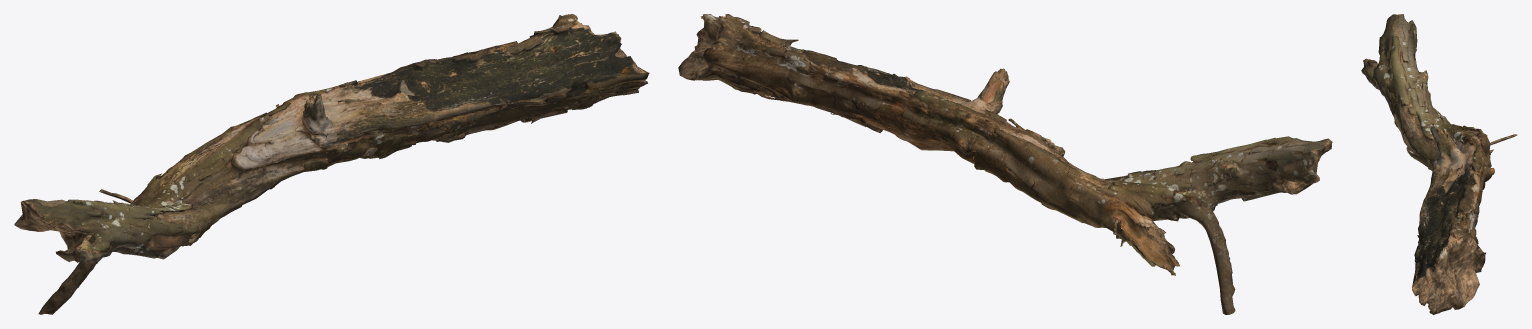
The model's file is dead_tree_trunk_02.glb.
3 renders of one model, left to right at view 1: azimuth 30°, elevation 25°; view 2: azimuth 150°, elevation 25°; view 3: azimuth 270°, elevation 25°, orthographic. The views are drawn at different scales.
Visible parts, largest first — view 1: dead_tree_trunk_02; view 2: dead_tree_trunk_02; view 3: dead_tree_trunk_02.
Boxes of the visible parts, x1=… form: dead_tree_trunk_02: x1=14, y1=14, x2=649, y2=314; dead_tree_trunk_02: x1=678, y1=14, x2=1332, y2=314; dead_tree_trunk_02: x1=1361, y1=14, x2=1517, y2=314.
Bounding box in the file's own units: 4.05 × 1.06 × 1.06.
1 material, 1 textured.
